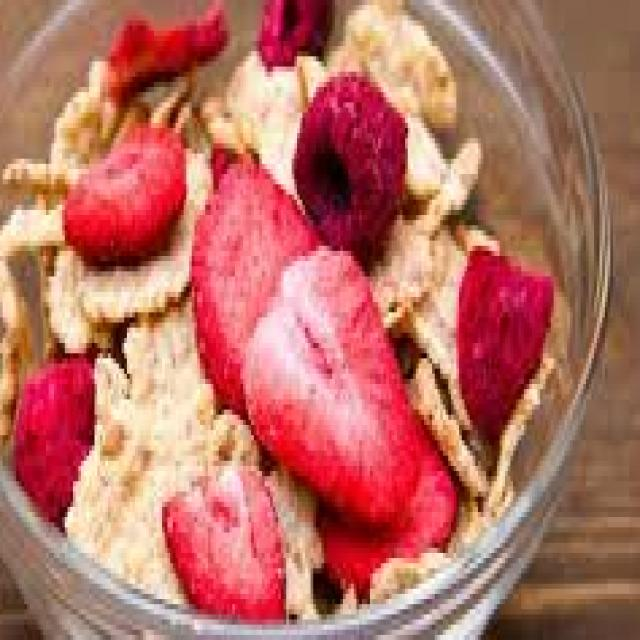inorganic: (61, 93, 481, 537)
organic: (1, 5, 607, 635)
